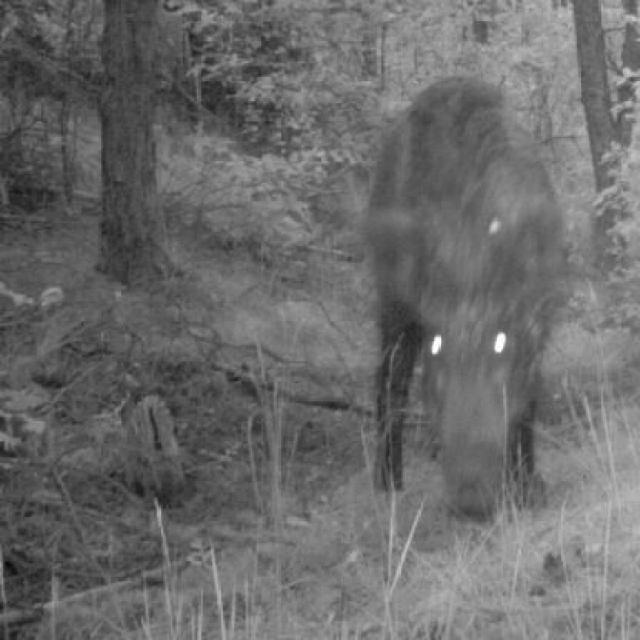pig: (343, 17, 583, 567)
